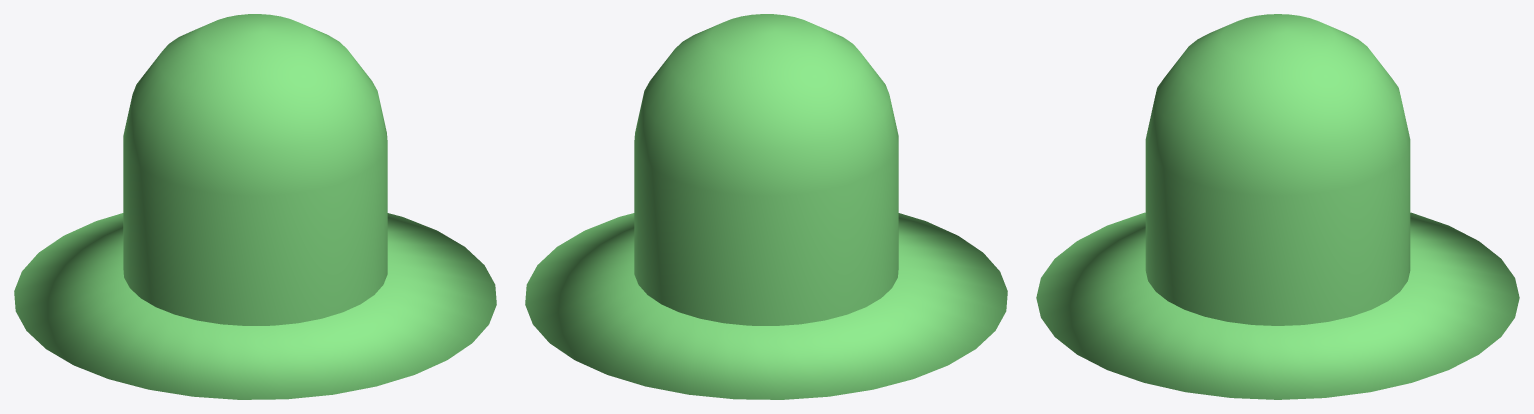
The model's file is Ship_V1.fbx.
3 renders of one model, left to right at view 1: azimuth 30°, elevation 25°; view 2: azimuth 150°, elevation 25°; view 3: azimuth 270°, elevation 25°, orthographic.
Parts seen in each view (by area): view 1: ufo alus.001, ufo alus; view 2: ufo alus.001, ufo alus; view 3: ufo alus.001, ufo alus.
Part boxes in pixels (box(x1,y1,x2,y2)): ufo alus.001: box(123, 14, 387, 325); ufo alus: box(14, 213, 496, 399); ufo alus.001: box(634, 14, 898, 325); ufo alus: box(525, 213, 1007, 399); ufo alus.001: box(1145, 14, 1410, 325); ufo alus: box(1036, 212, 1519, 399).
Size of the model in its own units: 761 by 527 by 761.
